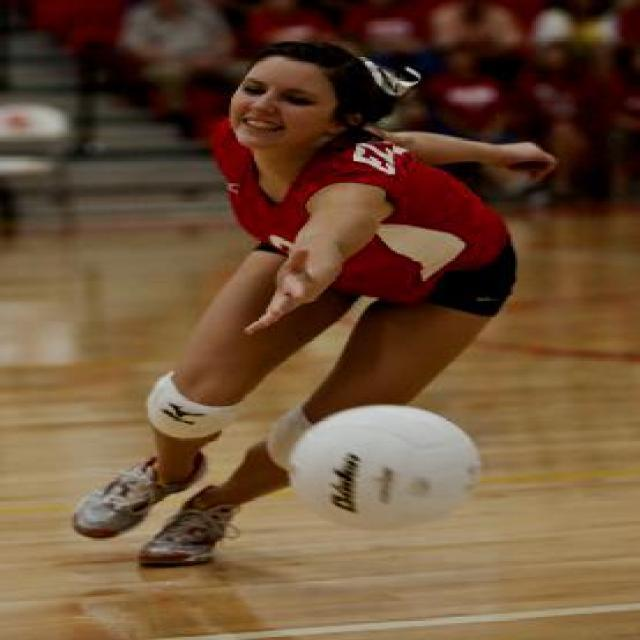volleyball: (291, 404, 482, 528)
